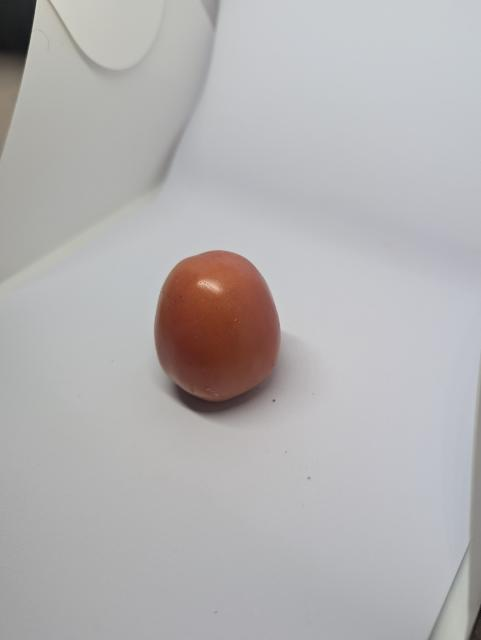red: (138, 241, 333, 412)
